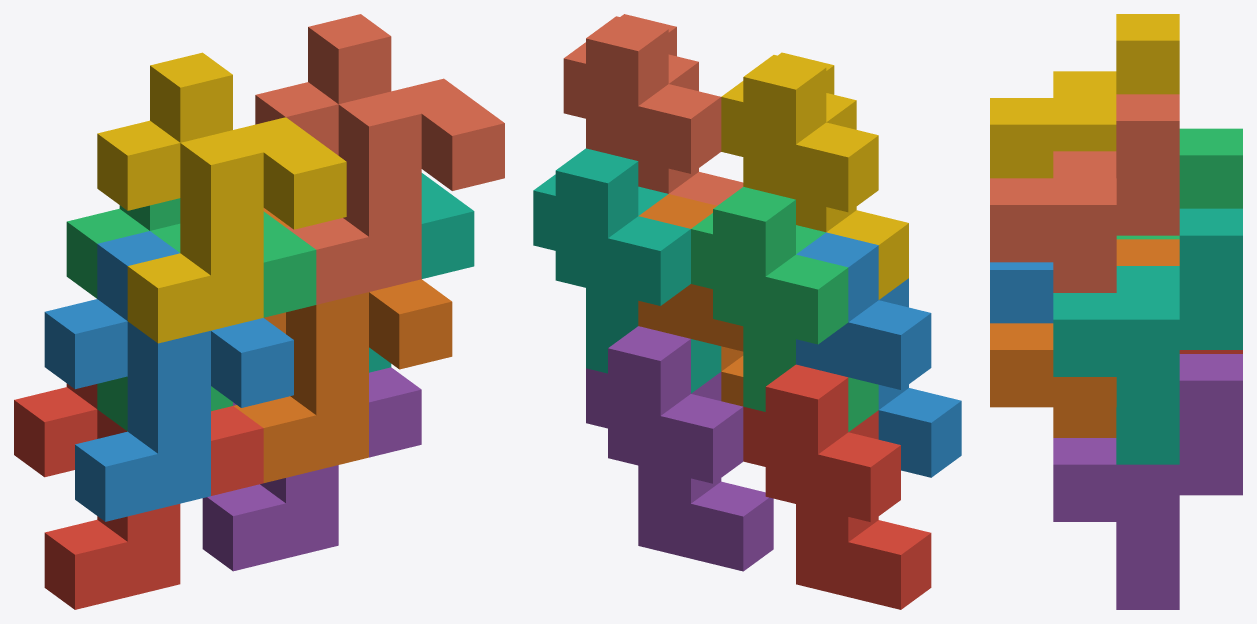
The model's file is tiling.obj.
The picture shows the model from 3 angles, left to right: view 1: azimuth 30°, elevation 25°; view 2: azimuth 150°, elevation 25°; view 3: azimuth 270°, elevation 25°; orthographic projection. The views are drawn at different scales.
Parts seen in each view (by area): view 1: copy_1_domain_4, copy_1_domain_8, copy_1_domain_2, copy_1_domain_6, copy_1_domain_1, copy_1_domain_5, copy_1_domain_3, copy_1_domain_7; view 2: copy_1_domain_1, copy_1_domain_5, copy_1_domain_4, copy_1_domain_3, copy_1_domain_7, copy_1_domain_8, copy_1_domain_2, copy_1_domain_6; view 3: copy_1_domain_7, copy_1_domain_5, copy_1_domain_8, copy_1_domain_4, copy_1_domain_6, copy_1_domain_3, copy_1_domain_2.
Part boxes in pixels (left/top/right/bottom): copy_1_domain_4: left=97, top=52, right=346, bottom=343; copy_1_domain_8: left=255, top=14, right=504, bottom=304; copy_1_domain_2: left=44, top=231, right=293, bottom=521; copy_1_domain_6: left=233, top=208, right=452, bottom=482; copy_1_domain_1: left=14, top=383, right=263, bottom=609; copy_1_domain_5: left=202, top=367, right=421, bottom=571; copy_1_domain_3: left=66, top=198, right=316, bottom=431; copy_1_domain_7: left=369, top=173, right=474, bottom=372; copy_1_domain_1: left=743, top=364, right=931, bottom=609; copy_1_domain_5: left=586, top=326, right=773, bottom=571; copy_1_domain_4: left=721, top=52, right=908, bottom=299; copy_1_domain_3: left=691, top=187, right=878, bottom=431; copy_1_domain_7: left=533, top=148, right=721, bottom=393; copy_1_domain_8: left=563, top=14, right=743, bottom=205; copy_1_domain_2: left=796, top=232, right=961, bottom=477; copy_1_domain_6: left=638, top=194, right=743, bottom=406; copy_1_domain_7: left=1053, top=208, right=1242, bottom=464; copy_1_domain_5: left=1053, top=354, right=1242, bottom=609; copy_1_domain_8: left=990, top=94, right=1179, bottom=292; copy_1_domain_4: left=990, top=14, right=1179, bottom=178; copy_1_domain_6: left=990, top=239, right=1179, bottom=437; copy_1_domain_3: left=1116, top=128, right=1242, bottom=239; copy_1_domain_2: left=990, top=262, right=1053, bottom=323.
Bounding box in the file's own units: 7 × 9 × 4.
